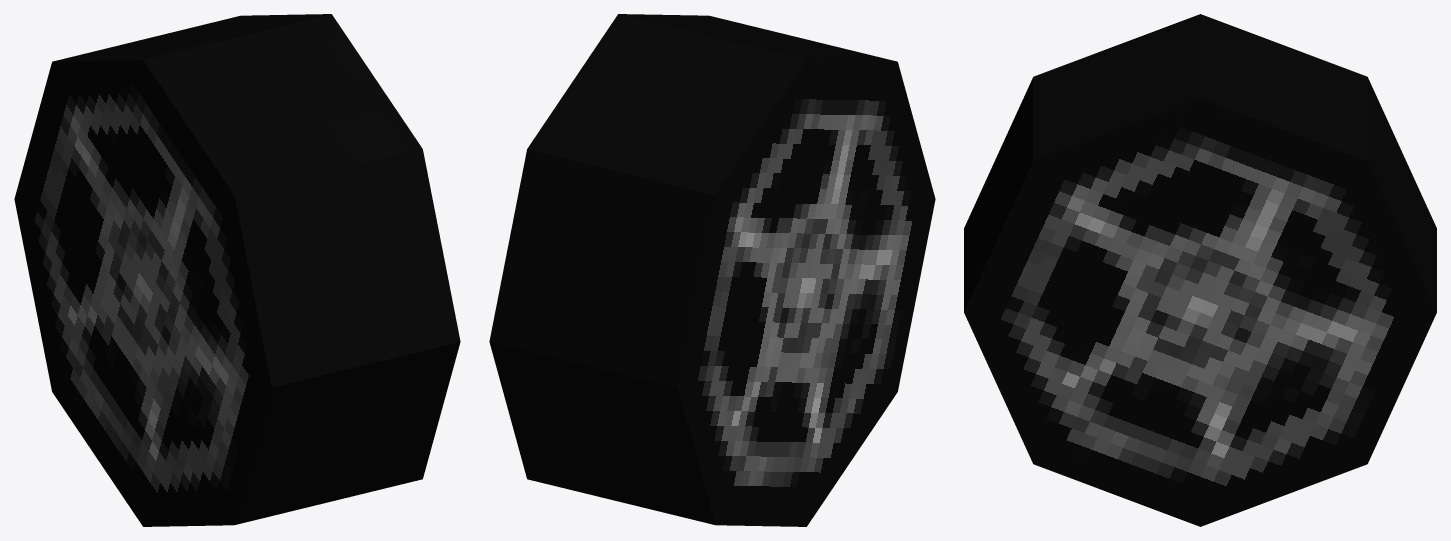
Rendered from wheel.glb.
The picture shows the model from 3 angles, left to right: view 1: azimuth 30°, elevation 25°; view 2: azimuth 150°, elevation 25°; view 3: azimuth 270°, elevation 25°; orthographic projection. The views are drawn at different scales.
Visible parts, largest first — view 1: wheel; view 2: wheel; view 3: wheel.
Part boxes in pixels (bbox=[...]): wheel: bbox=[14, 14, 460, 526]; wheel: bbox=[489, 14, 935, 526]; wheel: bbox=[964, 14, 1436, 526].
Bounding box in the file's own units: 0.2813 × 0.6659 × 0.6659.
1 material, 1 textured.
